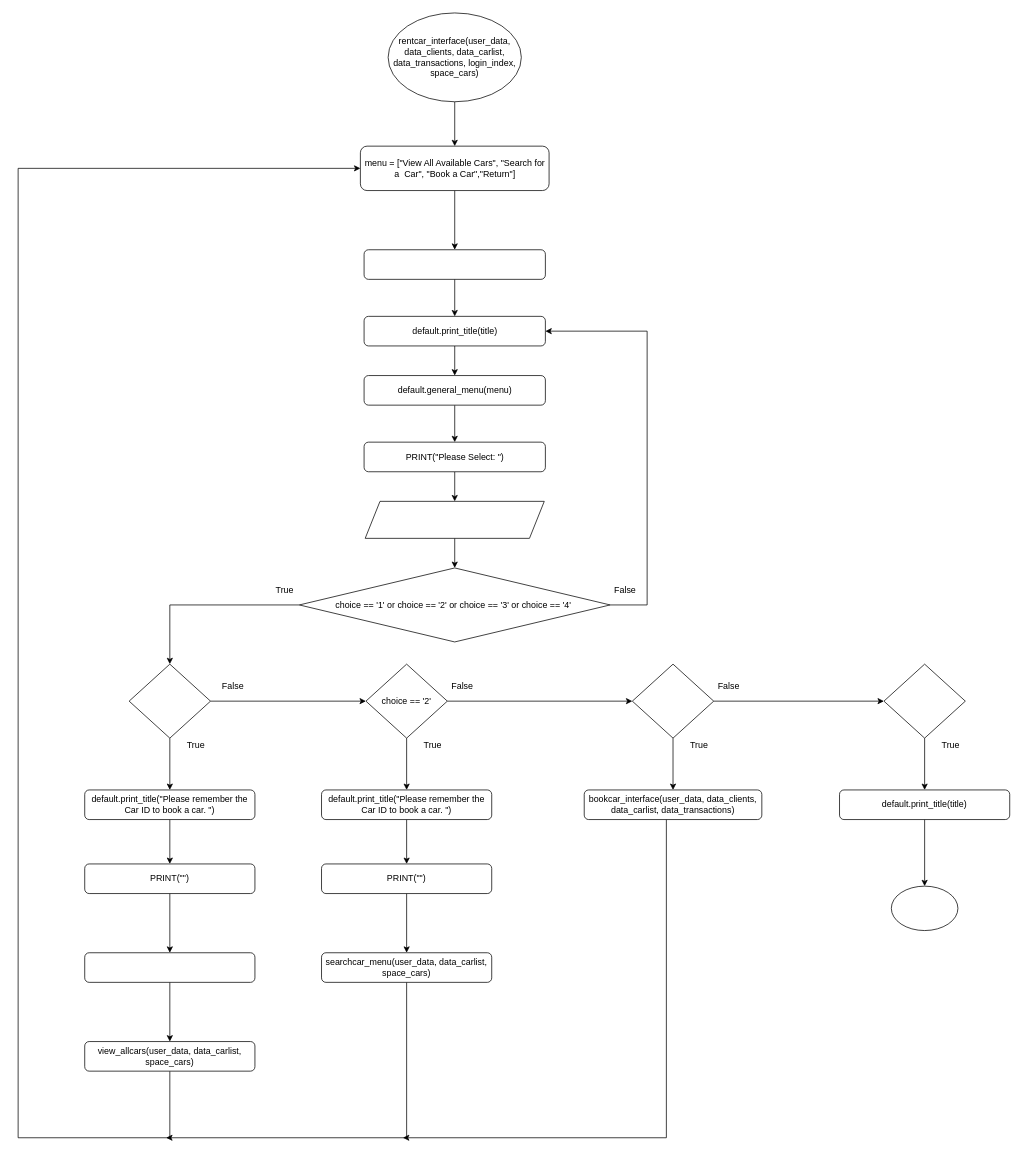
The diagram is 1023 pixels wide and 1157 high, and some of its shapes have lost their labels. Each missing label, with the centre of its shape:
choice == '1': (169,700)
choice == '3': (673,700)
choice == '4': (924,700)
default.print_table(data_carlist, 4, space_cars, login_index): (169,967)
READ choice: (454,519)
Return: (924,908)
title = user_data[2] + ", do you want to rent a car?": (454,264)
